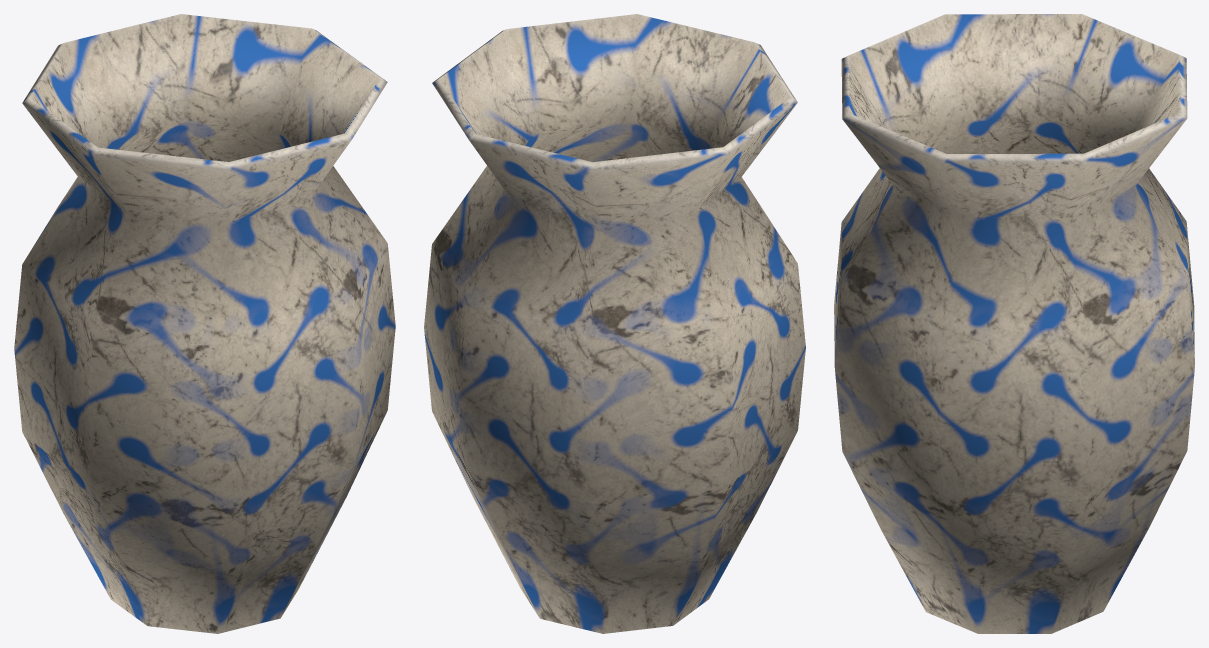
File: Vase.fbx
The picture shows the model from 3 angles, left to right: view 1: azimuth 30°, elevation 25°; view 2: azimuth 150°, elevation 25°; view 3: azimuth 270°, elevation 25°; orthographic projection.
Parts seen in each view (by area): view 1: Vase.003; view 2: Vase.003; view 3: Vase.003.
Part boxes in pixels (x1=…): Vase.003: x1=14, y1=14, x2=395, y2=633; Vase.003: x1=424, y1=14, x2=805, y2=633; Vase.003: x1=834, y1=14, x2=1194, y2=633.
Size of the model in its own units: 96.63 by 151 by 96.63.
